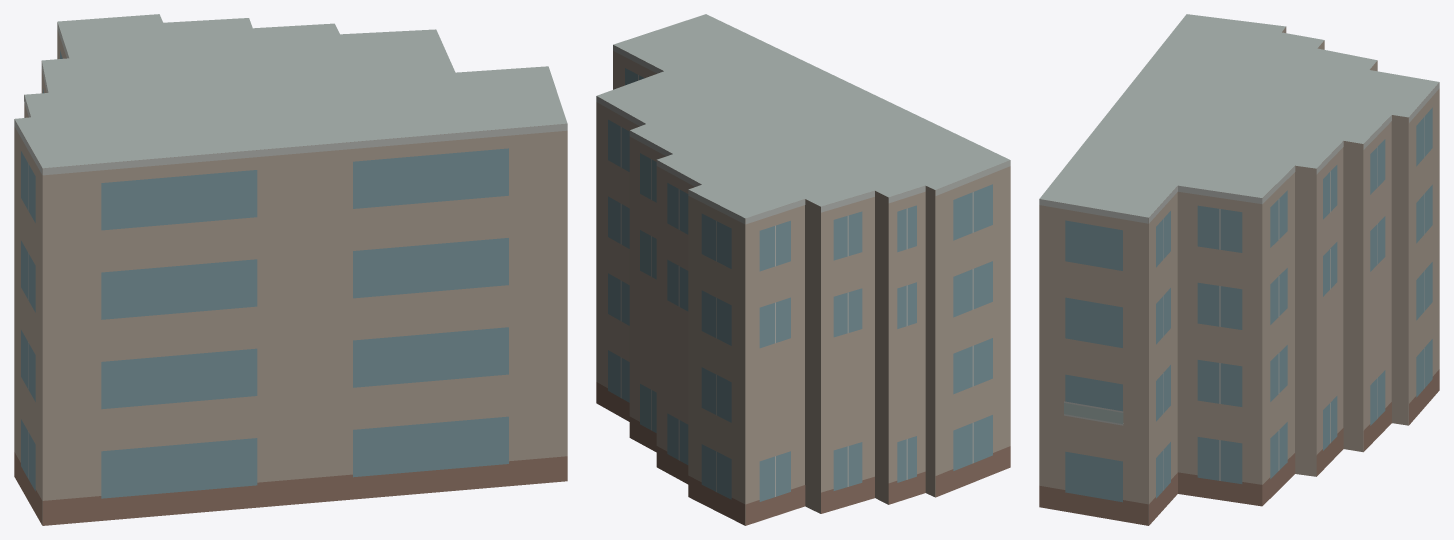
Rendered from survey-upis-33044283.glb.
The picture shows the model from 3 angles, left to right: view 1: azimuth 30°, elevation 25°; view 2: azimuth 150°, elevation 25°; view 3: azimuth 270°, elevation 25°; orthographic projection. The views are drawn at different scales.
Visible parts, largest first — view 1: survey-upis-33044283.tmp; view 2: survey-upis-33044283.tmp; view 3: survey-upis-33044283.tmp.
Boxes of the visible parts, left/top/right/bottom form: survey-upis-33044283.tmp: left=14, top=14, right=567, bottom=525; survey-upis-33044283.tmp: left=596, top=14, right=1010, bottom=525; survey-upis-33044283.tmp: left=1039, top=14, right=1439, bottom=525.
Size of the model in its own units: 17.44 by 12.3 by 14.49.
